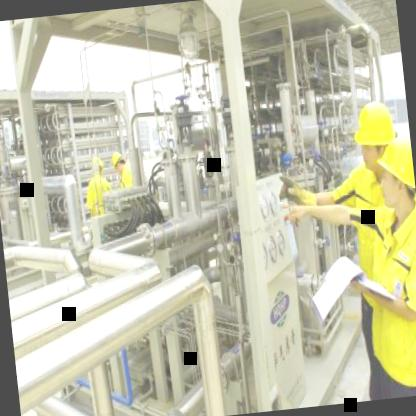helmet: (346, 96, 404, 178), (366, 128, 416, 221), (107, 145, 130, 175)
